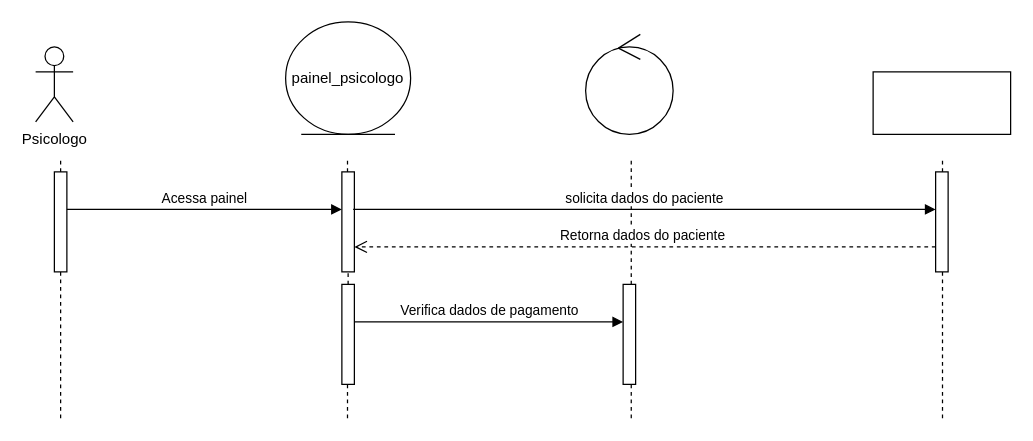
Some shapes in this 1033 by 441 pixel diagram are drawn without their labels. The shapes that lost their labels are listed below. From the top down, each one's centre as x and y in pixels, then its label:
the point at 628,83: Pagamento
the point at 941,102: Banco de dados
